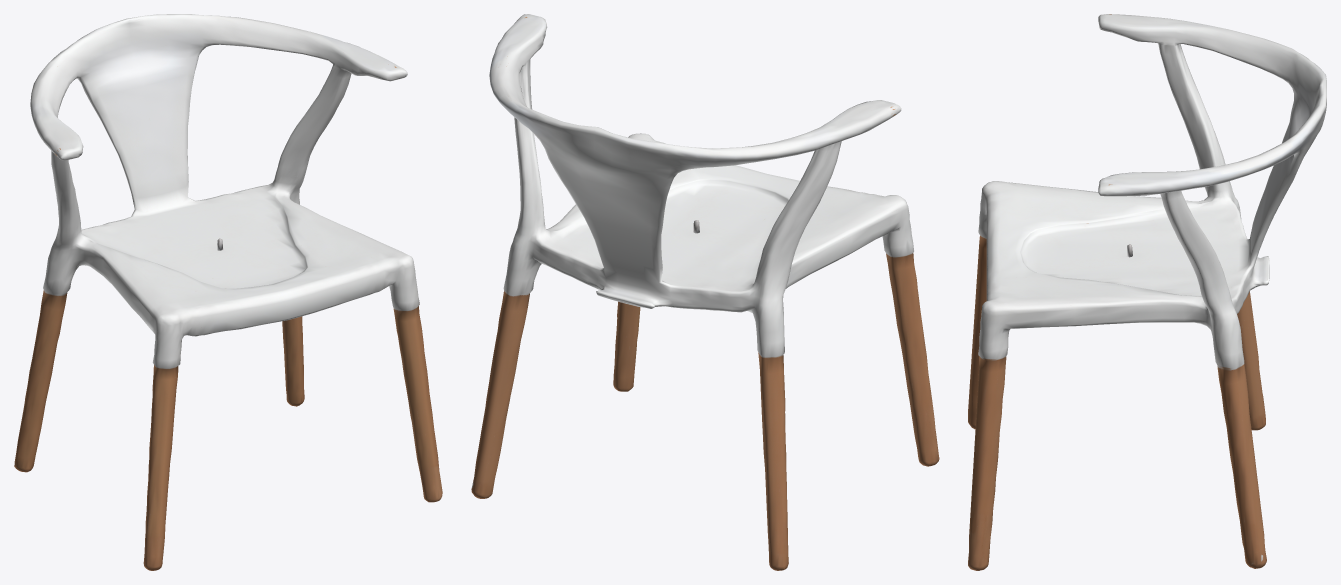
Rendered from Marcus_Wishbone_Chair_0404022042_texture.glb.
3 renders of one model, left to right at view 1: azimuth 30°, elevation 25°; view 2: azimuth 150°, elevation 25°; view 3: azimuth 270°, elevation 25°, orthographic. The views are drawn at different scales.
Parts seen in each view (by area): view 1: Mesh_0.003; view 2: Mesh_0.003; view 3: Mesh_0.003.
Part boxes in pixels (bbox=[...]): Mesh_0.003: bbox=[14, 14, 442, 570]; Mesh_0.003: bbox=[471, 14, 939, 570]; Mesh_0.003: bbox=[968, 14, 1326, 570].
Size of the model in its own units: 0.746 by 0.8128 by 0.6392.
1 material, 1 textured.
